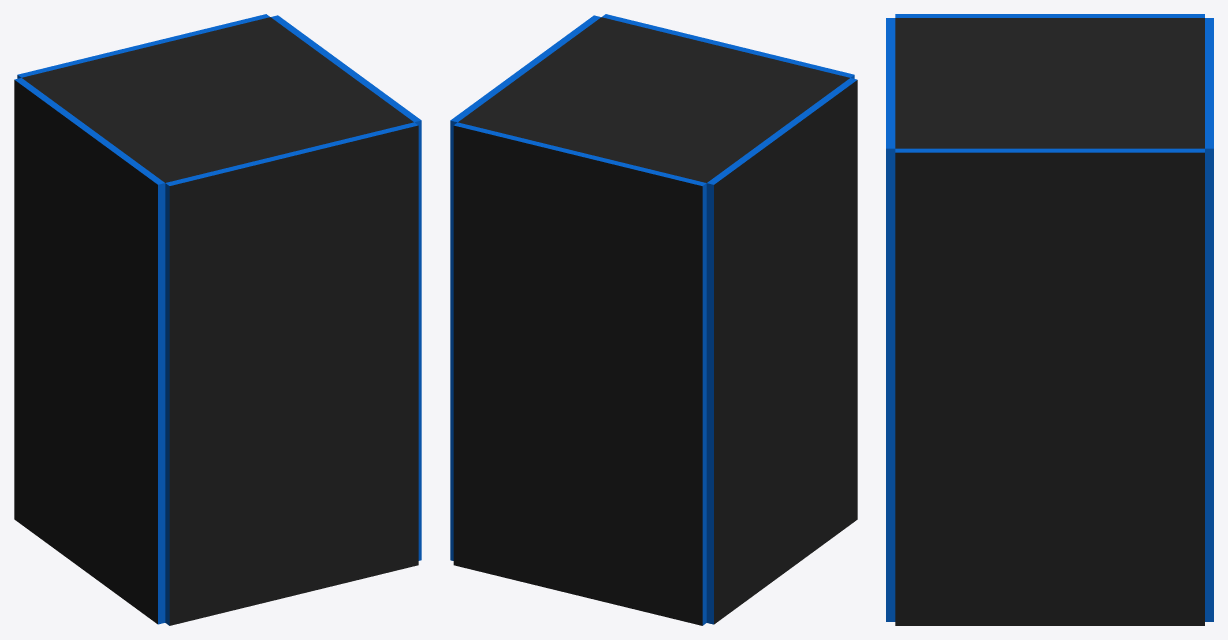
Rendered from Red Corner.fbx.
3 views of the same model, side by side, from view 1: azimuth 30°, elevation 25°; view 2: azimuth 150°, elevation 25°; view 3: azimuth 270°, elevation 25° (orthographic). The views are drawn at different scales.
Parts seen in each view (by area): view 1: Cube.001; view 2: Cube.001; view 3: Cube.001.
Part boxes in pixels (x1=…): Cube.001: x1=14, y1=14, x2=421, y2=625; Cube.001: x1=450, y1=14, x2=857, y2=625; Cube.001: x1=886, y1=14, x2=1213, y2=625.
Size of the model in its own units: 393 by 627 by 393.
